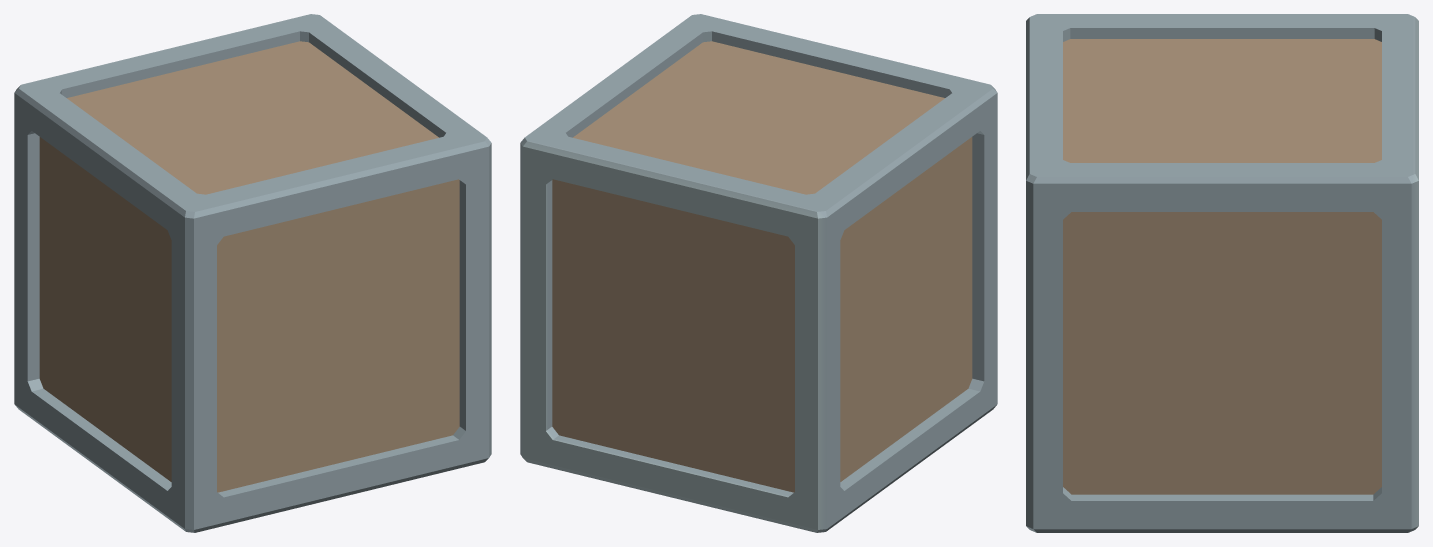
The model's file is Crate.fbx.
3 views of the same model, side by side, from view 1: azimuth 30°, elevation 25°; view 2: azimuth 150°, elevation 25°; view 3: azimuth 270°, elevation 25° (orthographic). The views are drawn at different scales.
Parts seen in each view (by area): view 1: Crate; view 2: Crate; view 3: Crate.
Part boxes in pixels (<box>): Crate: <box>14,14,491,532</box>; Crate: <box>520,14,997,532</box>; Crate: <box>1026,14,1418,532</box>.
Size of the model in its own units: 0.6294 by 0.6294 by 0.6294.
